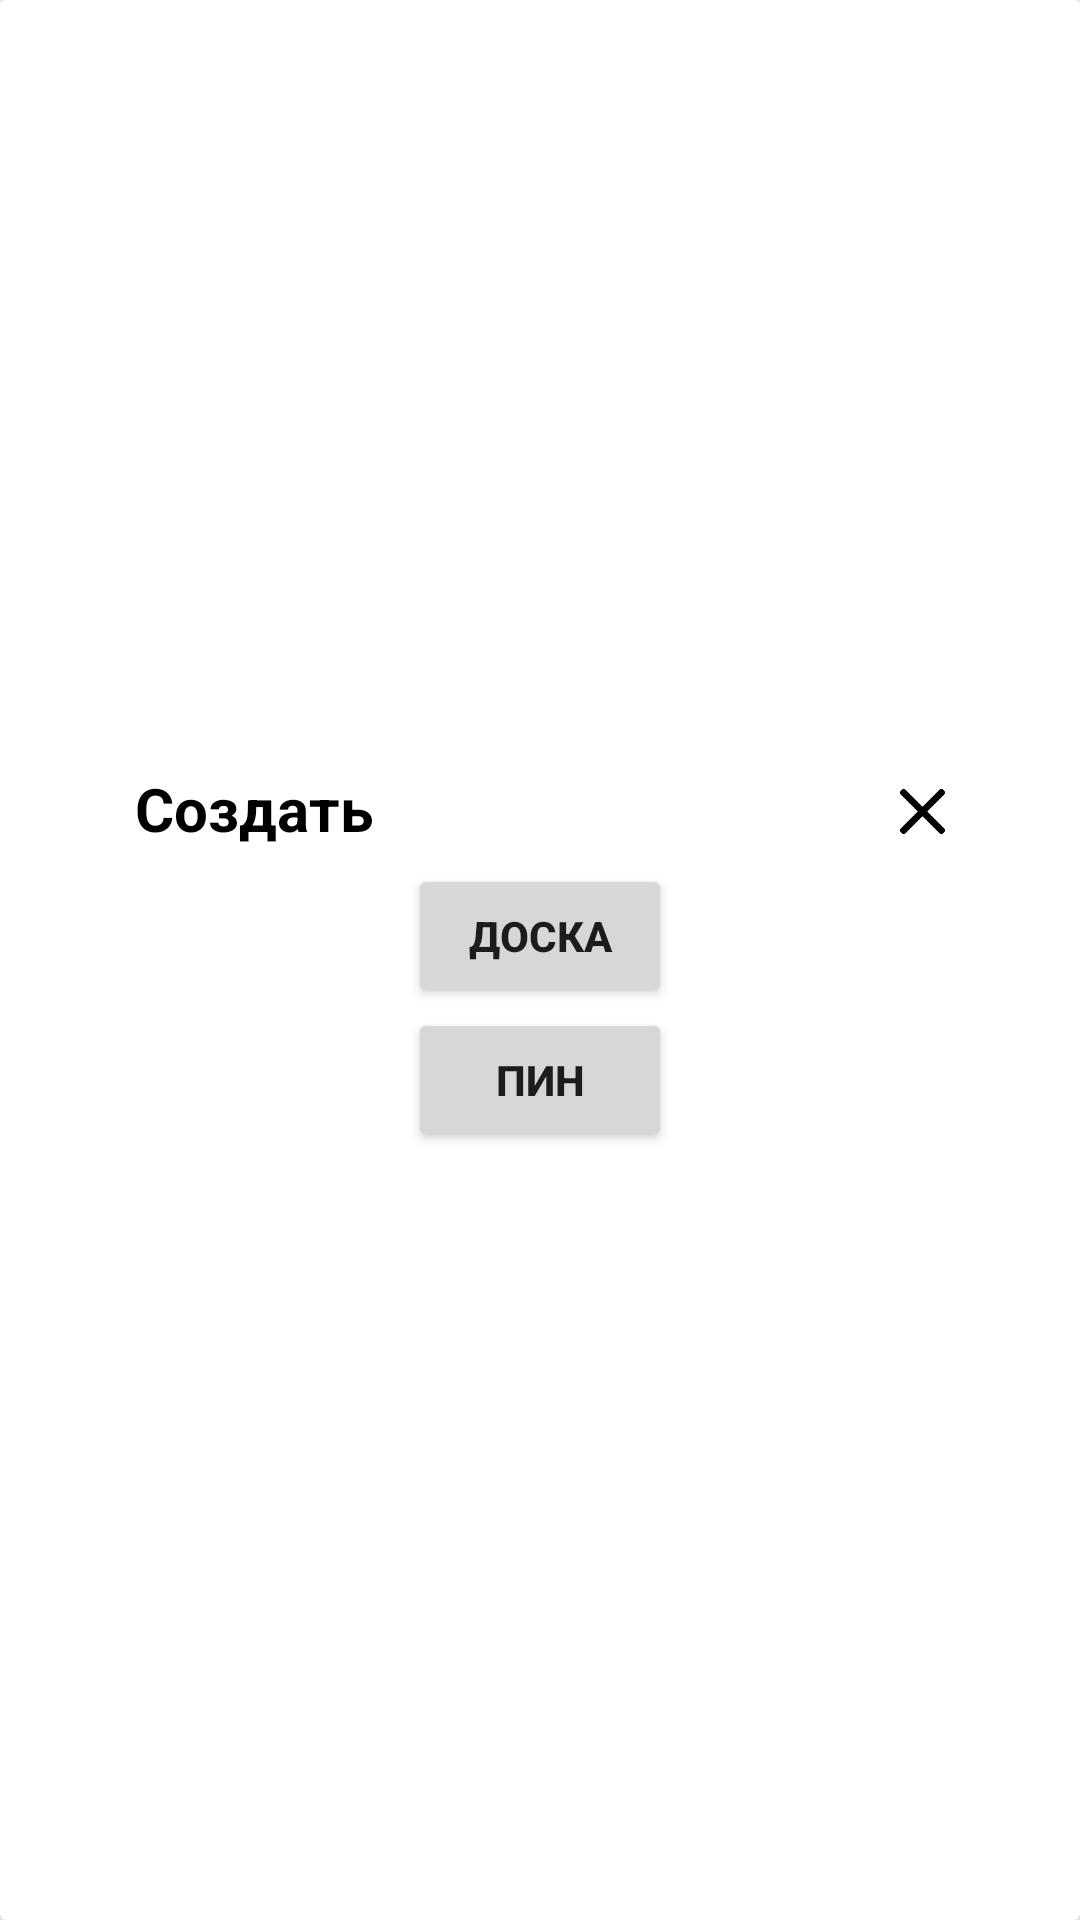

Named icons in this screenshot (1080 x 1920) and their bounding boxes, box(x1, y1, x2, y2):
close: box(900, 789, 945, 834)
